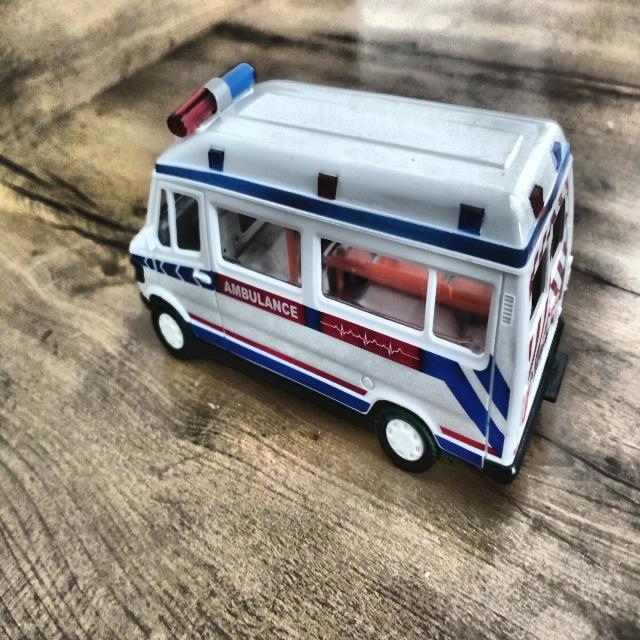Ambulance: (128, 61, 574, 503)
